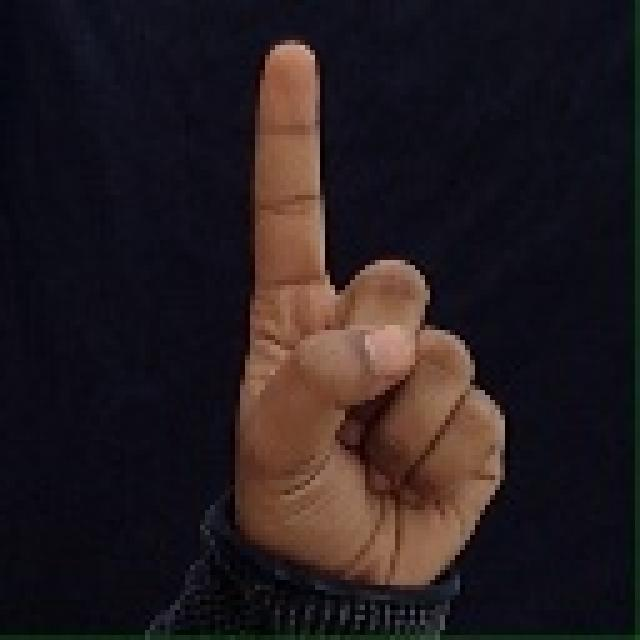Numeric-1: (233, 32, 519, 598)
